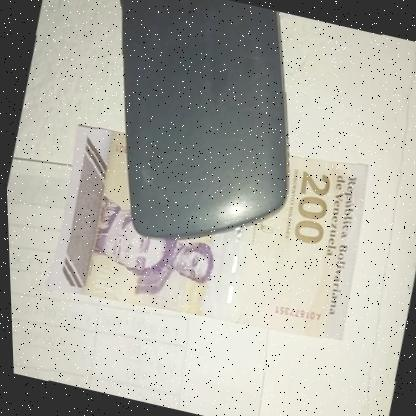two_hundred-front-vef: (37, 98, 380, 356)
